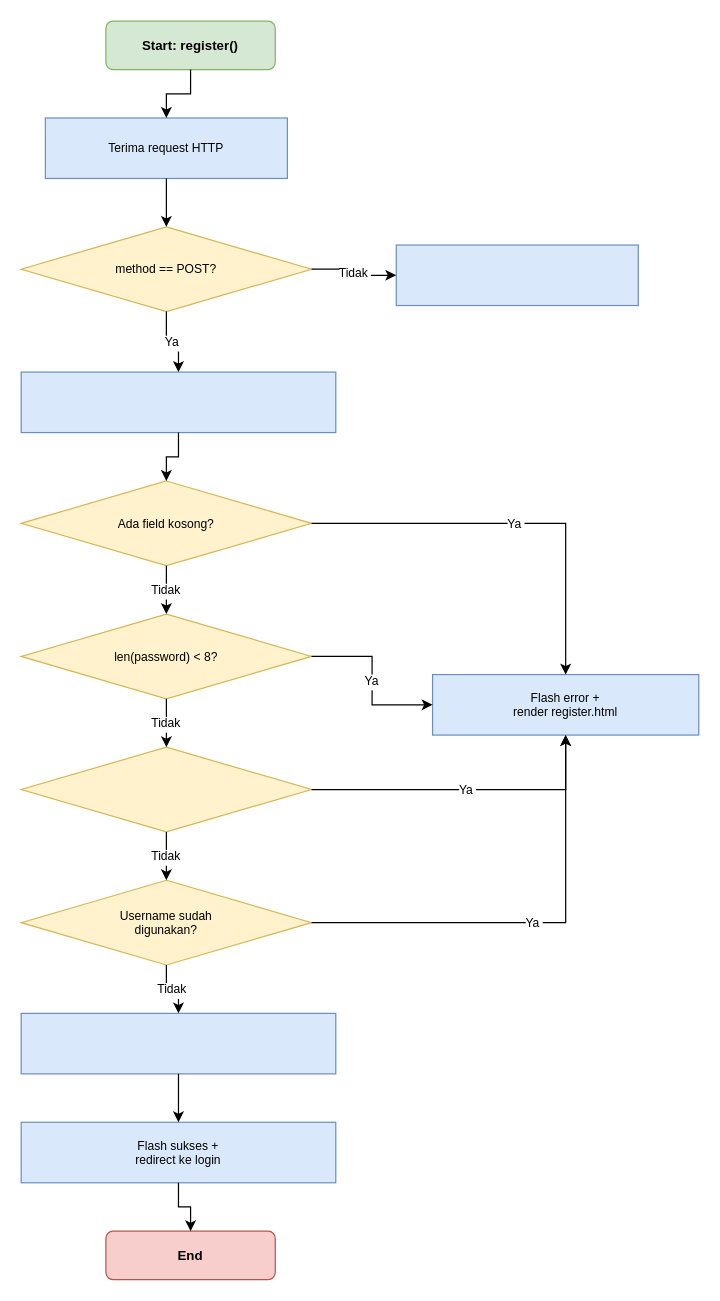
Image size: 720x1301. Some labels were removed from this diagram. Each missing label, with the centre of its shape:
"Ambil username, password, confirm_password dari form" goes at (178,402).
"Hash password & simpan user baru ke DB" goes at (178,1043).
"password != confirm_password?" goes at (166,789).
"Render register.html (HTTP 200)" goes at (516,275).
